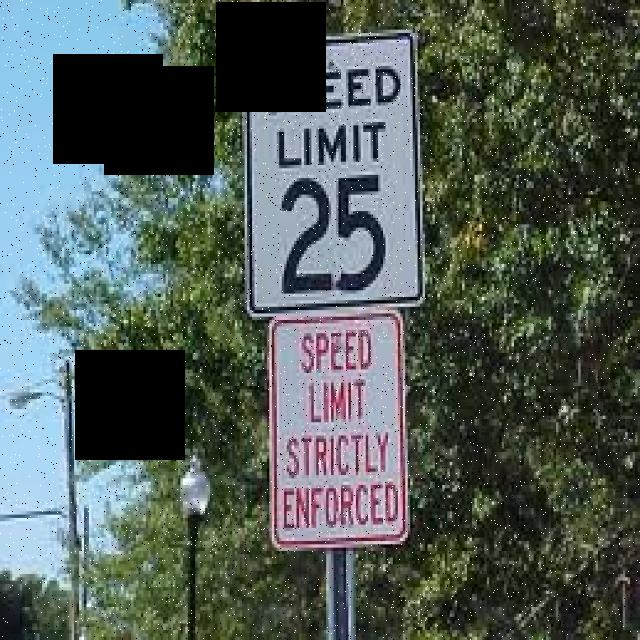regulatory: (244, 28, 424, 318), (267, 310, 413, 552)
